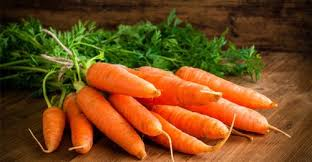carrot: (168, 62, 281, 116), (72, 85, 145, 150), (135, 91, 229, 140), (118, 61, 213, 102), (79, 58, 160, 96), (35, 98, 64, 151)
